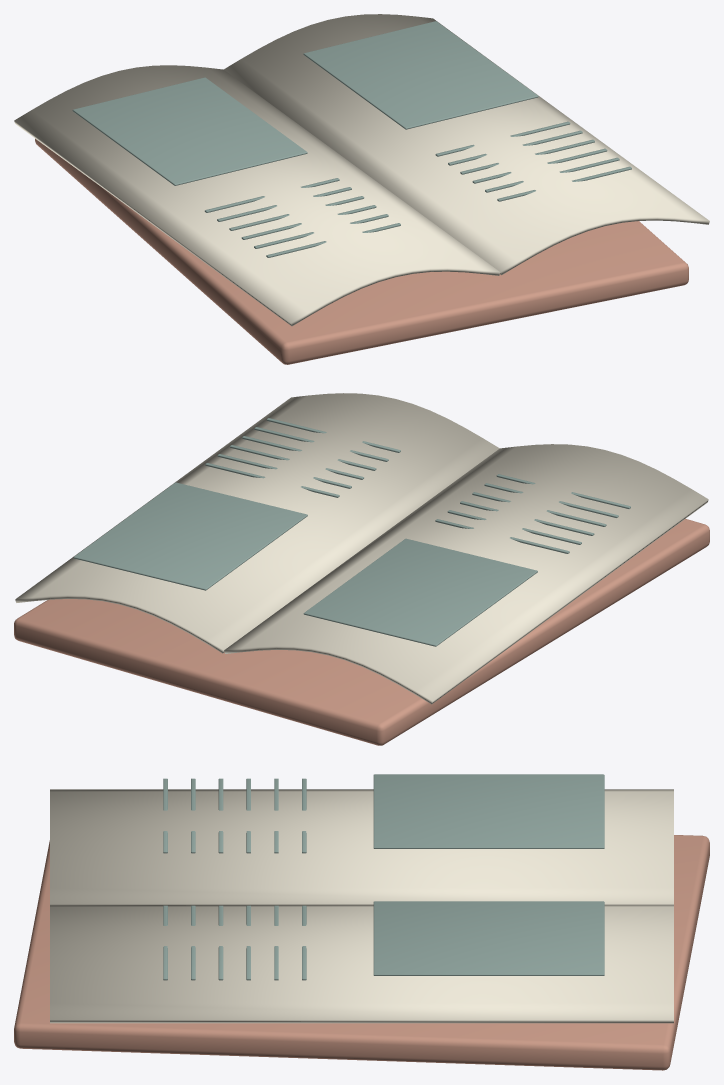
Rendered from magazine.glb.
3 renders of one model, top to bottom at view 1: azimuth 30°, elevation 25°; view 2: azimuth 150°, elevation 25°; view 3: azimuth 270°, elevation 25°, orthographic. The views are drawn at different scales.
Visible parts, largest first — view 1: magazine__paper, magazine__print, magazine__body; view 2: magazine__paper, magazine__body, magazine__print; view 3: magazine__paper, magazine__print, magazine__body.
Part boxes in pixels (x1,y1,x2,y2): magazine__paper: [14, 14, 709, 326]; magazine__print: [72, 21, 631, 257]; magazine__body: [35, 138, 688, 364]; magazine__paper: [15, 393, 708, 704]; magazine__body: [14, 519, 709, 745]; magazine__print: [73, 418, 630, 646]; magazine__paper: [50, 789, 673, 1023]; magazine__print: [163, 774, 604, 980]; magazine__body: [14, 835, 709, 1070].
Size of the model in its own units: 0.2416 by 0.0385 by 0.3012.
